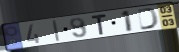1: (120, 9, 135, 33)
4: (26, 23, 41, 45)
9: (69, 16, 89, 39)
D: (136, 7, 161, 31)
I: (51, 19, 61, 43)
T: (90, 13, 109, 36)
